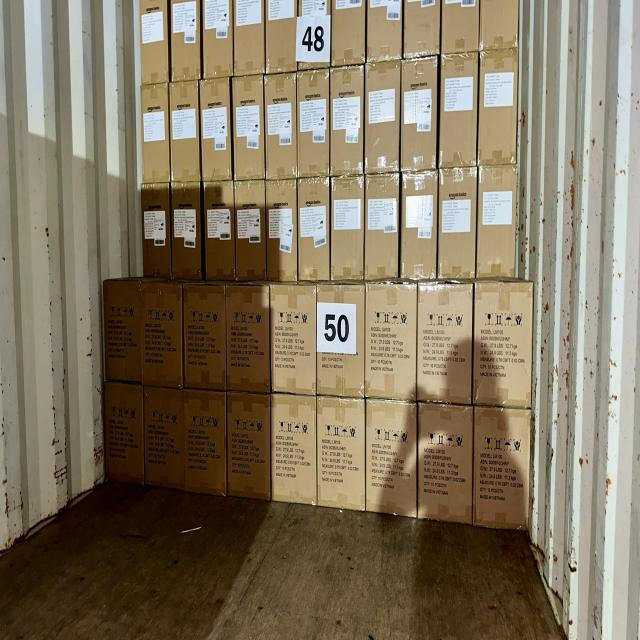Carton: (475, 282, 535, 410), (474, 410, 534, 532), (416, 281, 472, 405), (418, 403, 473, 521), (365, 284, 417, 402), (368, 398, 420, 516), (319, 284, 368, 396), (320, 396, 368, 510), (271, 282, 318, 392), (271, 397, 317, 507), (224, 395, 270, 504), (224, 284, 269, 392), (184, 283, 228, 392), (479, 168, 521, 281), (141, 282, 184, 390), (480, 50, 520, 165), (186, 391, 229, 497), (438, 54, 477, 167), (144, 386, 186, 490), (104, 383, 146, 486), (437, 170, 475, 282), (104, 282, 144, 388), (403, 56, 439, 170), (402, 172, 440, 280), (364, 61, 399, 172), (331, 66, 365, 174), (364, 176, 398, 281), (266, 73, 299, 181), (331, 177, 365, 281), (296, 70, 329, 176), (297, 178, 330, 282), (231, 77, 263, 182), (265, 180, 297, 282), (203, 183, 236, 281), (201, 80, 232, 182), (232, 184, 264, 282), (168, 80, 199, 181), (174, 181, 205, 279), (141, 83, 170, 182), (142, 183, 170, 280), (173, 1, 204, 86), (296, 0, 331, 71), (203, 2, 234, 82), (140, 0, 169, 83), (232, 1, 263, 78), (265, 0, 298, 70), (333, 0, 367, 66), (365, 0, 401, 62), (404, 0, 442, 58), (480, 0, 522, 50), (444, 0, 482, 53)
